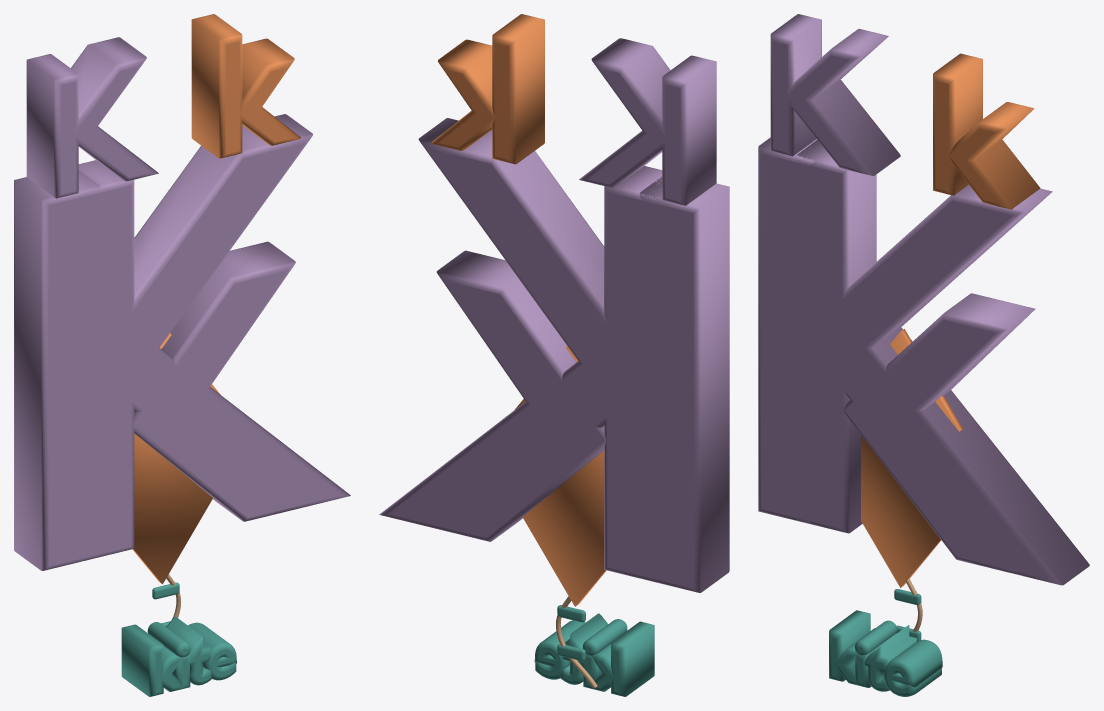
File: letter-k.glb
3 views of the same model, side by side, from view 1: azimuth 30°, elevation 25°; view 2: azimuth 150°, elevation 25°; view 3: azimuth 330°, elevation 25° (orthographic). The views are drawn at different scales.
Parts seen in each view (by area): view 1: letter solid, letter solid.001, uppercase solid, lowercase solid, kite diamond, example word; view 2: letter solid, letter solid.001, uppercase solid, lowercase solid, kite diamond, example word; view 3: letter solid, letter solid.001, uppercase solid, lowercase solid, example word, kite diamond.
Boxes of the visible parts, bbox=[...] form: letter solid: bbox=[14, 114, 350, 570]; letter solid.001: bbox=[78, 160, 306, 560]; uppercase solid: bbox=[26, 37, 158, 198]; lowercase solid: bbox=[191, 14, 300, 158]; kite diamond: bbox=[132, 333, 220, 584]; example word: bbox=[121, 616, 236, 696]; letter solid: bbox=[379, 118, 729, 592]; letter solid.001: bbox=[416, 166, 662, 582]; uppercase solid: bbox=[579, 38, 716, 205]; lowercase solid: bbox=[431, 14, 544, 164]; kite diamond: bbox=[515, 345, 606, 606]; example word: bbox=[534, 613, 654, 696]; letter solid: bbox=[758, 137, 1089, 585]; letter solid.001: bbox=[796, 140, 1035, 576]; uppercase solid: bbox=[770, 14, 900, 175]; lowercase solid: bbox=[933, 53, 1040, 209]; example word: bbox=[829, 610, 942, 696]; kite diamond: bbox=[861, 329, 962, 587].
Size of the model in its own units: 1.01 by 1.94 by 0.28.
